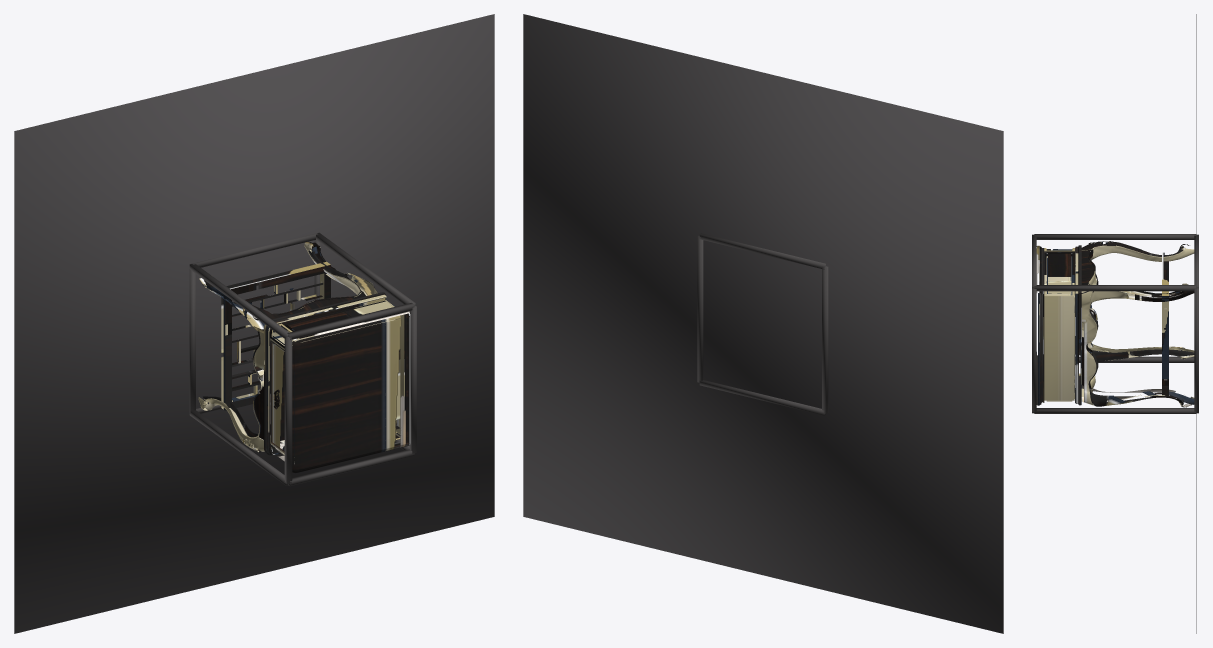
3 renders of one model, left to right at view 1: azimuth 30°, elevation 25°; view 2: azimuth 150°, elevation 25°; view 3: azimuth 270°, elevation 25°, orthographic. The views are drawn at different scales.
Bounding box in the file's own units: 2 × 2 × 0.715.
